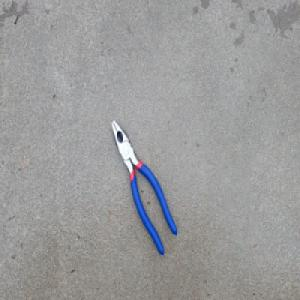Pliers: (111, 119, 178, 256)
